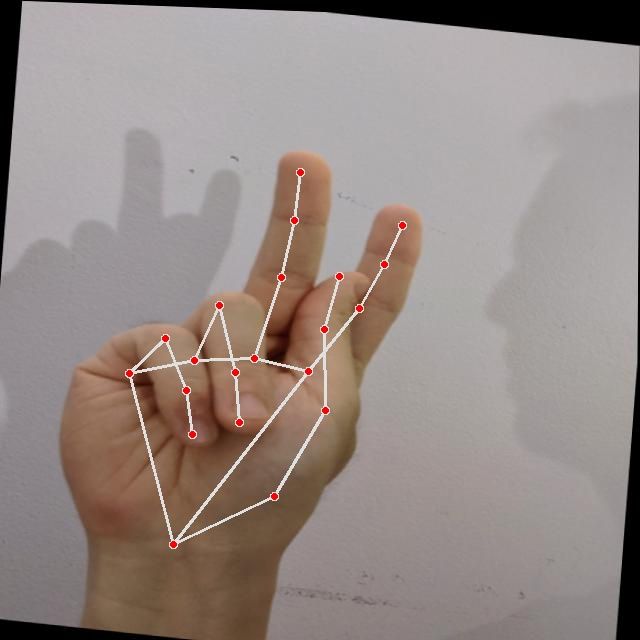K: (36, 119, 438, 609)
